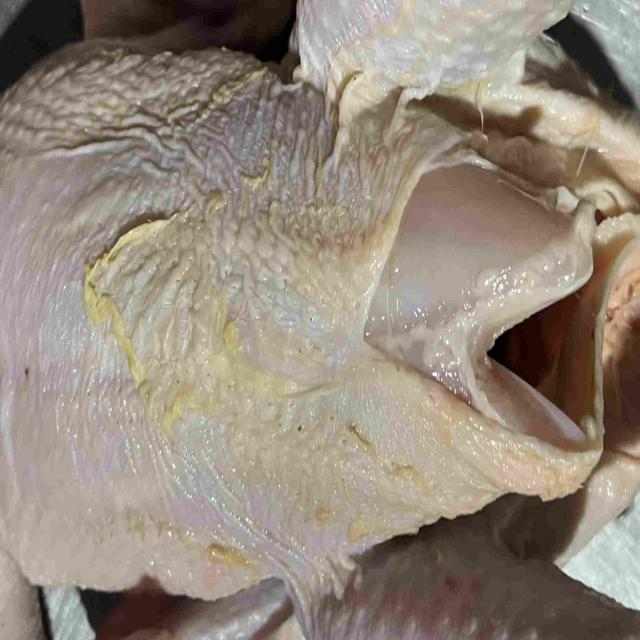breast: (0, 50, 582, 601)
leg: (305, 535, 640, 640)
wing: (95, 575, 305, 640)
